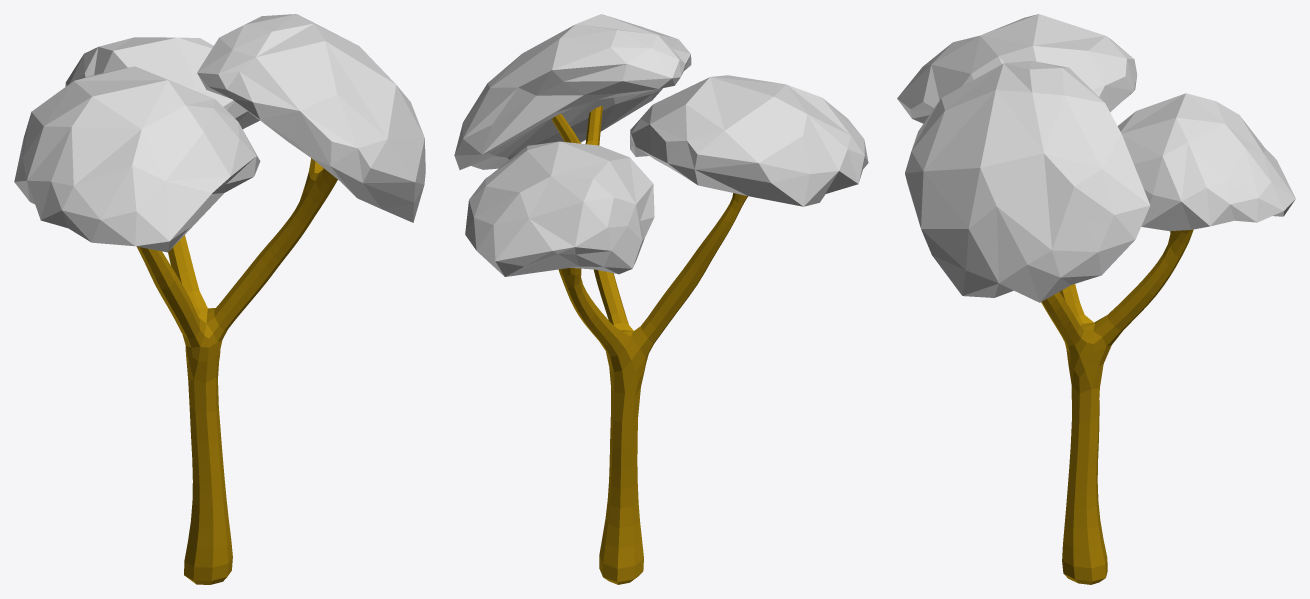
File: tree2.glb
The picture shows the model from 3 angles, left to right: view 1: azimuth 30°, elevation 25°; view 2: azimuth 150°, elevation 25°; view 3: azimuth 270°, elevation 25°; orthographic projection. The views are drawn at different scales.
Parts seen in each view (by area): view 1: leaf, trunk; view 2: leaf, trunk; view 3: leaf, trunk.
Boxes of the visible parts, bbox=[...] form: leaf: bbox=[14, 14, 425, 252]; trunk: bbox=[137, 158, 337, 584]; leaf: bbox=[454, 14, 868, 276]; trunk: bbox=[552, 106, 747, 584]; leaf: bbox=[897, 14, 1295, 302]; trunk: bbox=[1041, 229, 1193, 584].
Bounding box in the file's own units: 2.93 × 4.03 × 2.77.
